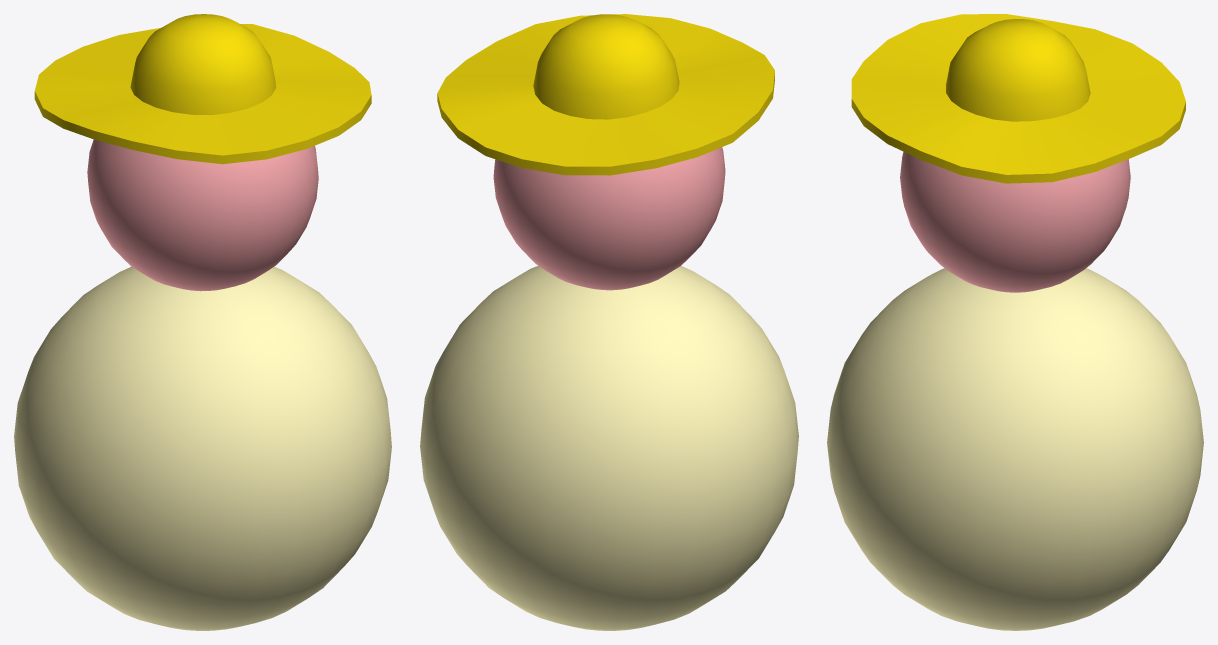
File: Gosn5.fbx
3 renders of one model, left to right at view 1: azimuth 30°, elevation 25°; view 2: azimuth 150°, elevation 25°; view 3: azimuth 270°, elevation 25°, orthographic.
Visible parts, largest first — view 1: cika_1, cika_1.002, cika_1.001; view 2: cika_1, cika_1.002, cika_1.001; view 3: cika_1, cika_1.002, cika_1.001.
Part boxes in pixels (box(x1,y1,x2,y2)): cika_1: box(14, 266, 391, 630); cika_1.002: box(34, 14, 371, 164); cika_1.001: box(87, 139, 318, 291); cika_1: box(420, 266, 798, 630); cika_1.002: box(437, 14, 774, 175); cika_1.001: box(493, 147, 725, 290); cika_1: box(827, 268, 1203, 630); cika_1.002: box(851, 14, 1185, 183); cika_1.001: box(900, 151, 1130, 292).
Size of the model in its own units: 5301 by 9067 by 5301.
